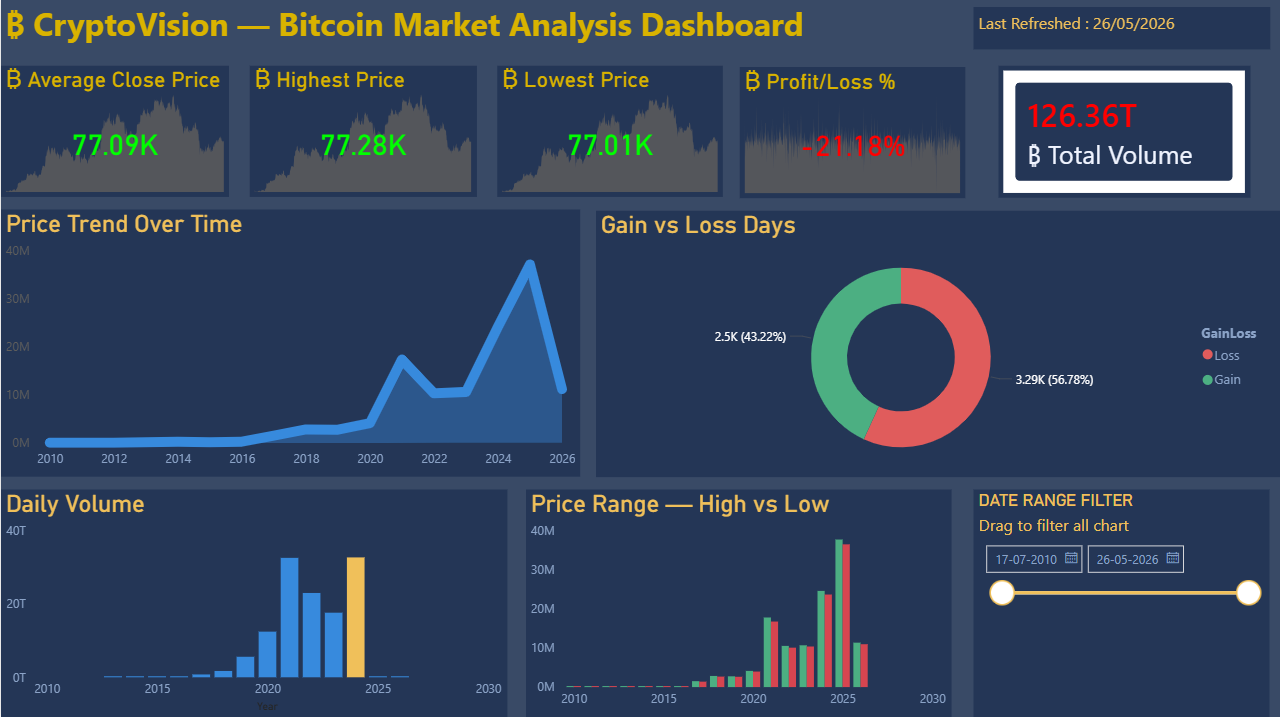

The page's visual inventory and layout, read from the dashboard file:
{"tool":"powerbi","page":{"name":"Page 1","canvas":[1280,720],"ordinal":0},"visuals":[{"type":"textbox","box":[9.1,0,839,68.8],"z":0},{"type":"cardVisual","fields":{"Data":["Avg(StockData.Close price)"]},"box":[0,68.6,253.9,131.7],"z":1000},{"type":"cardVisual","fields":{"Data":["Avg(StockData.High Price)"]},"box":[256.6,68.6,249.7,131.7],"z":2000},{"type":"cardVisual","fields":{"Data":["Avg(StockData.Low price)"]},"box":[513.2,68.6,252.5,131.7],"z":3000},{"type":"cardVisual","fields":{"Data":["Sum(StockData.volume)"]},"box":[765.7,68.6,252.5,131.7],"z":4000},{"type":"areaChart","title":"Price Trend Over Time","fields":{"Category":["StockData.Date.Variation.Date Hierarchy.Year","StockData.Date.Variation.Date Hierarchy.Quarter","StockData.Date.Variation.Date Hierarchy.Month","StockData.Date.Variation.Date Hierarchy.Day"],"Y":["Sum(StockData.Close price)"]},"box":[0,213,579.2,267.5],"z":5000},{"type":"donutChart","title":"Gain vs Loss Days","fields":{"Category":["StockData.GainLoss"],"Y":["CountNonNull(StockData.Date)"]},"box":[594.8,213,685.7,267.5],"z":6000},{"type":"clusteredColumnChart","title":"Daily Volume","fields":{"Category":["StockData.Date.Variation.Date Hierarchy.Year","StockData.Date.Variation.Date Hierarchy.Quarter","StockData.Date.Variation.Date Hierarchy.Month","StockData.Date.Variation.Date Hierarchy.Day"],"Y":["Sum(StockData.volume)"]},"box":[0,492.6,506.3,227.8],"z":7000},{"type":"clusteredColumnChart","title":"Price Range — High vs Low","fields":{"Category":["StockData.Date.Variation.Date Hierarchy.Year","StockData.Date.Variation.Date Hierarchy.Quarter","StockData.Date.Variation.Date Hierarchy.Month","StockData.Date.Variation.Date Hierarchy.Day"],"Y":["Sum(StockData.High Price)","Sum(StockData.Low price)"]},"box":[525.6,492.6,425.4,227.8],"z":8000},{"type":"slicer","title":"DATE RANGE FILTER","fields":{"Values":["StockData.Date"]},"box":[972.7,492.2,296.1,227.3],"z":9000},{"type":"textbox","box":[972.1,10,296.5,42.8],"z":10000},{"type":"cardVisual","fields":{"Data":["StockData.PL Percentage"]},"box":[1027.8,76.8,252.5,113.9],"z":11000}]}

Visuals, with their boxes in screenshot pixels (x1, y1, x2, y2), scaled from the page's 1280x720 canvas onto the 1280x717 screenshot:
textbox: (left=9, top=0, right=848, bottom=69)
cardVisual - Avg(StockData.Close price): (left=0, top=68, right=254, bottom=199)
cardVisual - Avg(StockData.High Price): (left=257, top=68, right=506, bottom=199)
cardVisual - Avg(StockData.Low price): (left=513, top=68, right=766, bottom=199)
cardVisual - Sum(StockData.volume): (left=766, top=68, right=1018, bottom=199)
"Price Trend Over Time" areaChart: (left=0, top=212, right=579, bottom=478)
"Gain vs Loss Days" donutChart: (left=595, top=212, right=1279, bottom=478)
"Daily Volume" clusteredColumnChart: (left=0, top=491, right=506, bottom=716)
"Price Range — High vs Low" clusteredColumnChart: (left=526, top=491, right=951, bottom=716)
"DATE RANGE FILTER" slicer: (left=973, top=490, right=1269, bottom=716)
textbox: (left=972, top=10, right=1269, bottom=53)
cardVisual - StockData.PL Percentage: (left=1028, top=76, right=1279, bottom=190)
